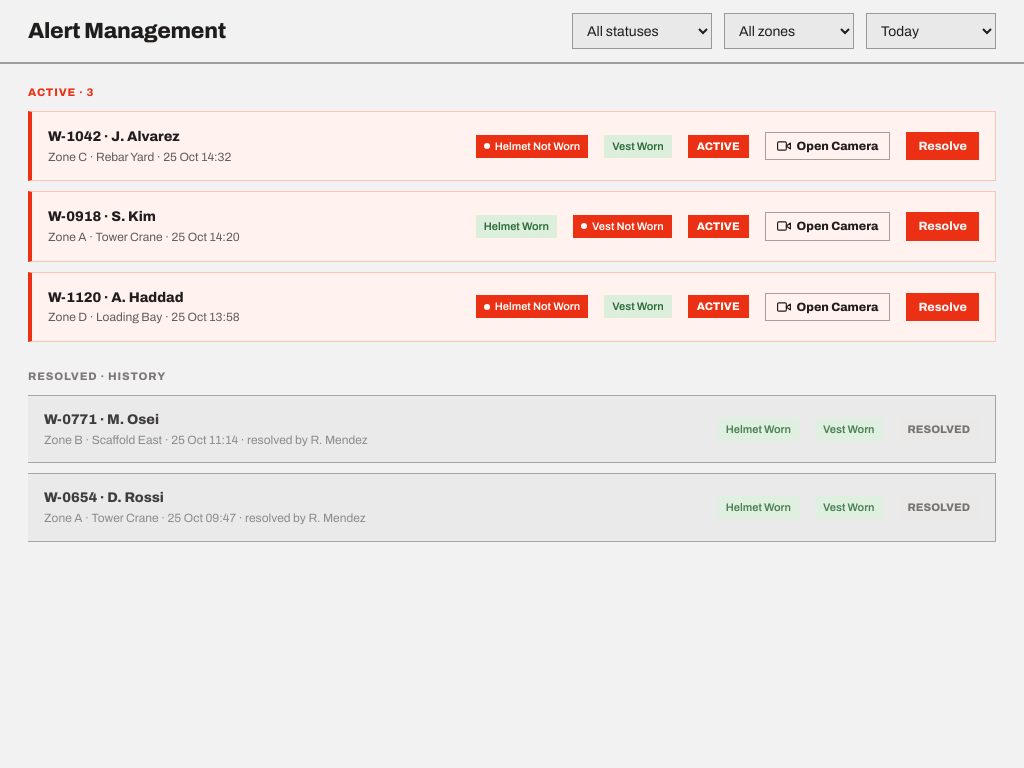
Test: AlertsScreen › filters by status (UI-6.8)
Select "Resolved" in the dropdown named "alert-status" at (642, 31), box left=572, top=13, right=712, bottom=49
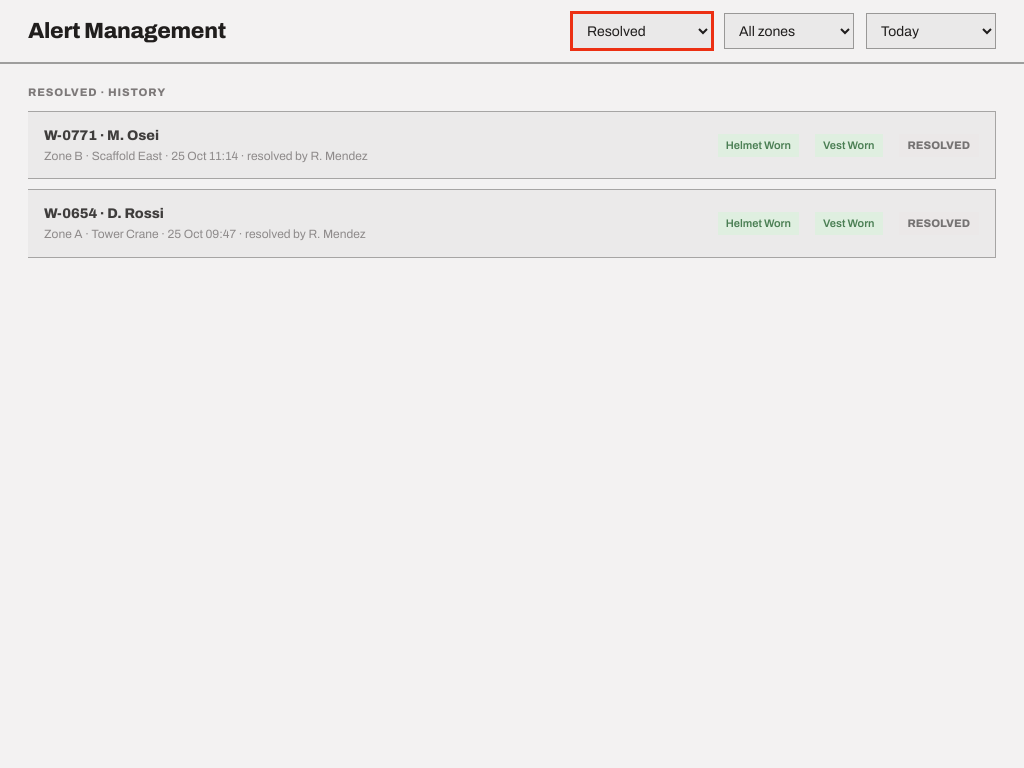
Expected: the text "Resolved · history" is shown, left=28, top=86, right=166, bottom=98
Expected: the text "Active ·" is gone
